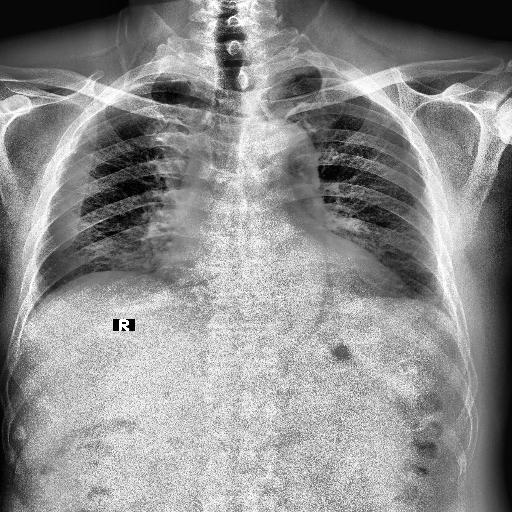0- Aortic enlargement: (229, 117, 320, 194), (246, 122, 322, 186), (238, 119, 318, 170)
13- Pulmonary fibrosis: (72, 150, 106, 162), (58, 188, 88, 194)
3- Cardiomegaly: (152, 250, 420, 312), (152, 261, 416, 316), (151, 250, 413, 296)
